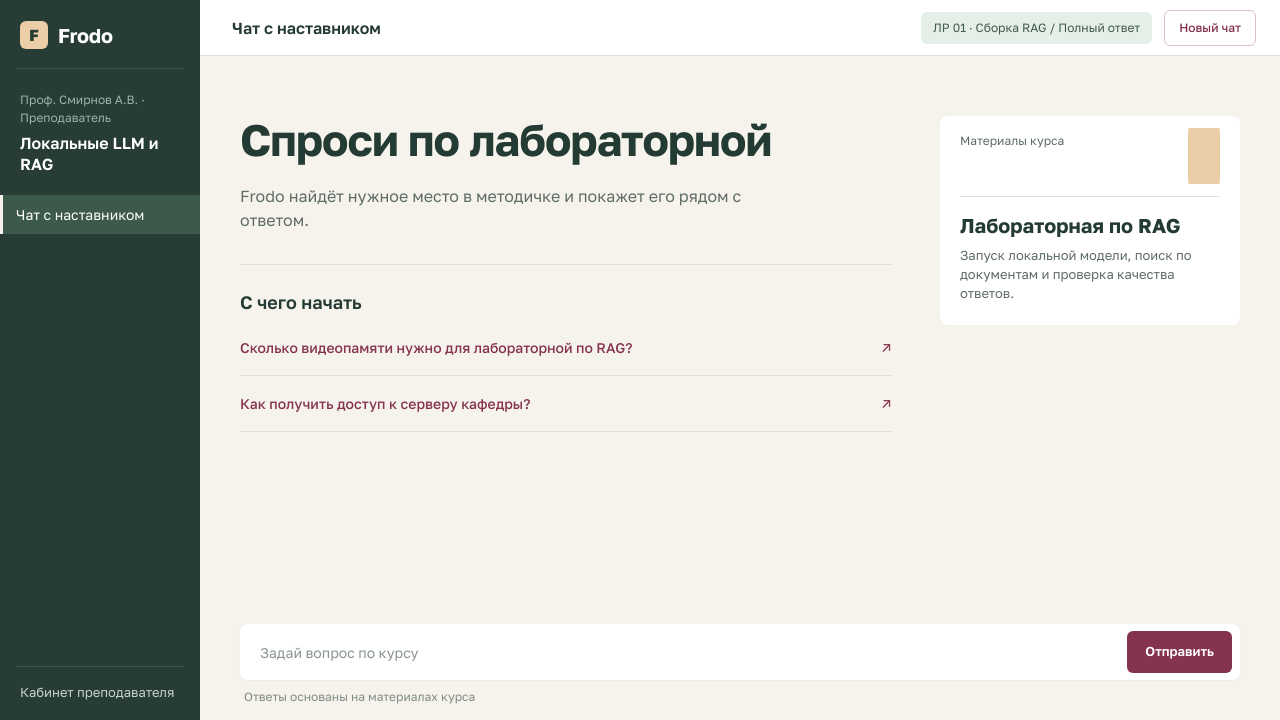
чат с наставником › показывает ответ «в материалах нет» и возвращает к пустому чату
Click the button "Как получить доступ к серверу кафедры? ↗" at x=385, y=403, box [240, 376, 892, 432]
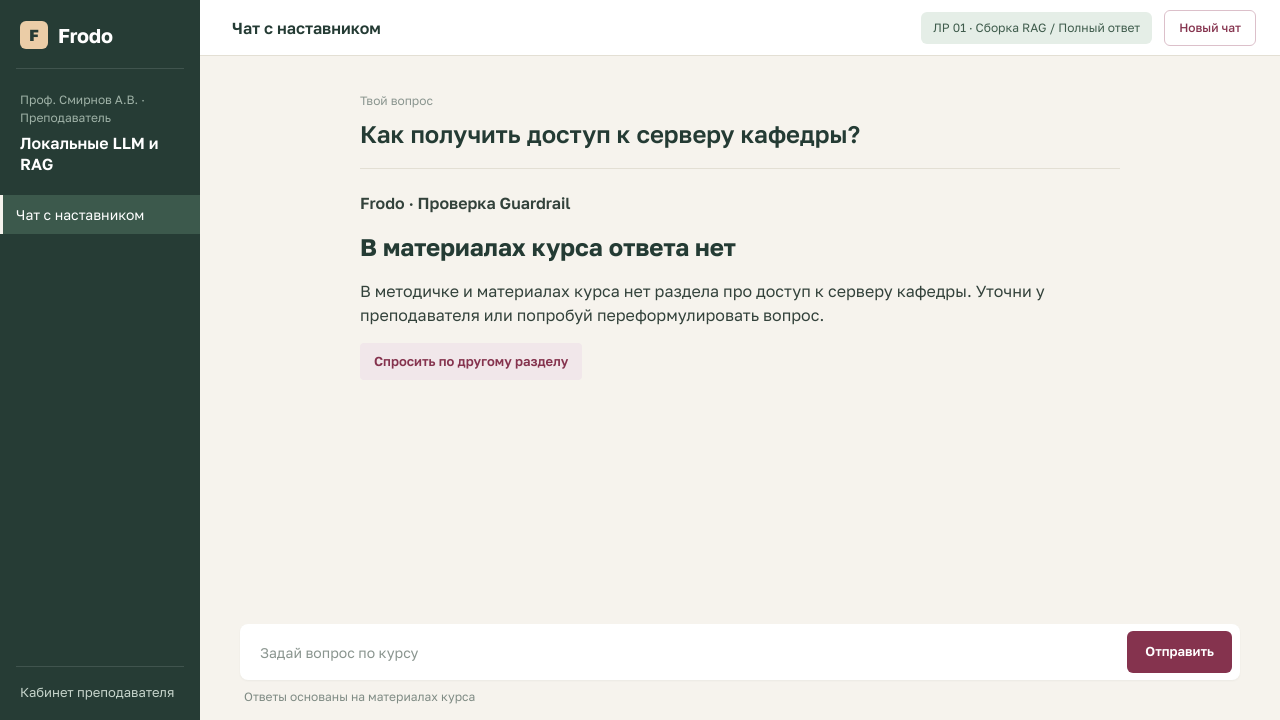
Expected: the heading "В материалах курса ответа нет" is shown, [360, 232, 736, 261]
Expected: the text "В методичке и материалах курса нет раздела про доступ к серверу кафедры. Уточни у преподавателя или попробуй переформули" is shown, [360, 281, 1045, 325]
Click the button "Спросить по другому разделу" at x=471, y=362, box [360, 343, 582, 380]
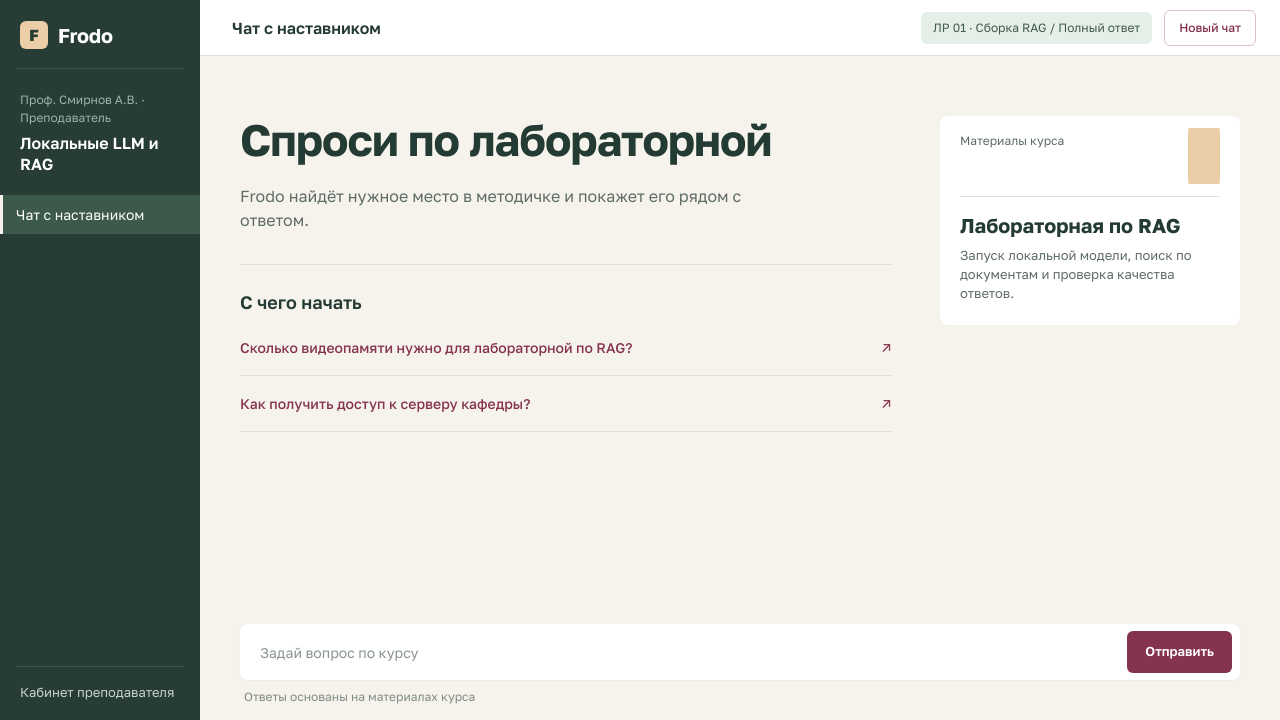
Expected: the heading "Спроси по лабораторной" is shown, [240, 113, 772, 166]
Expected: the text "Твой вопрос" is gone
